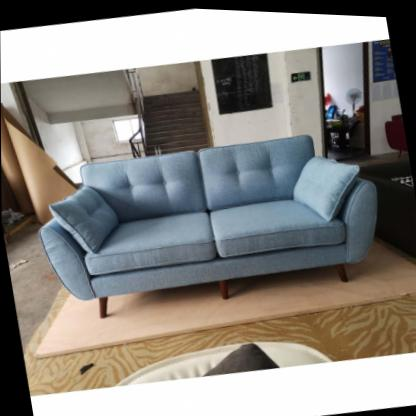Sofa: (25, 113, 392, 333)
